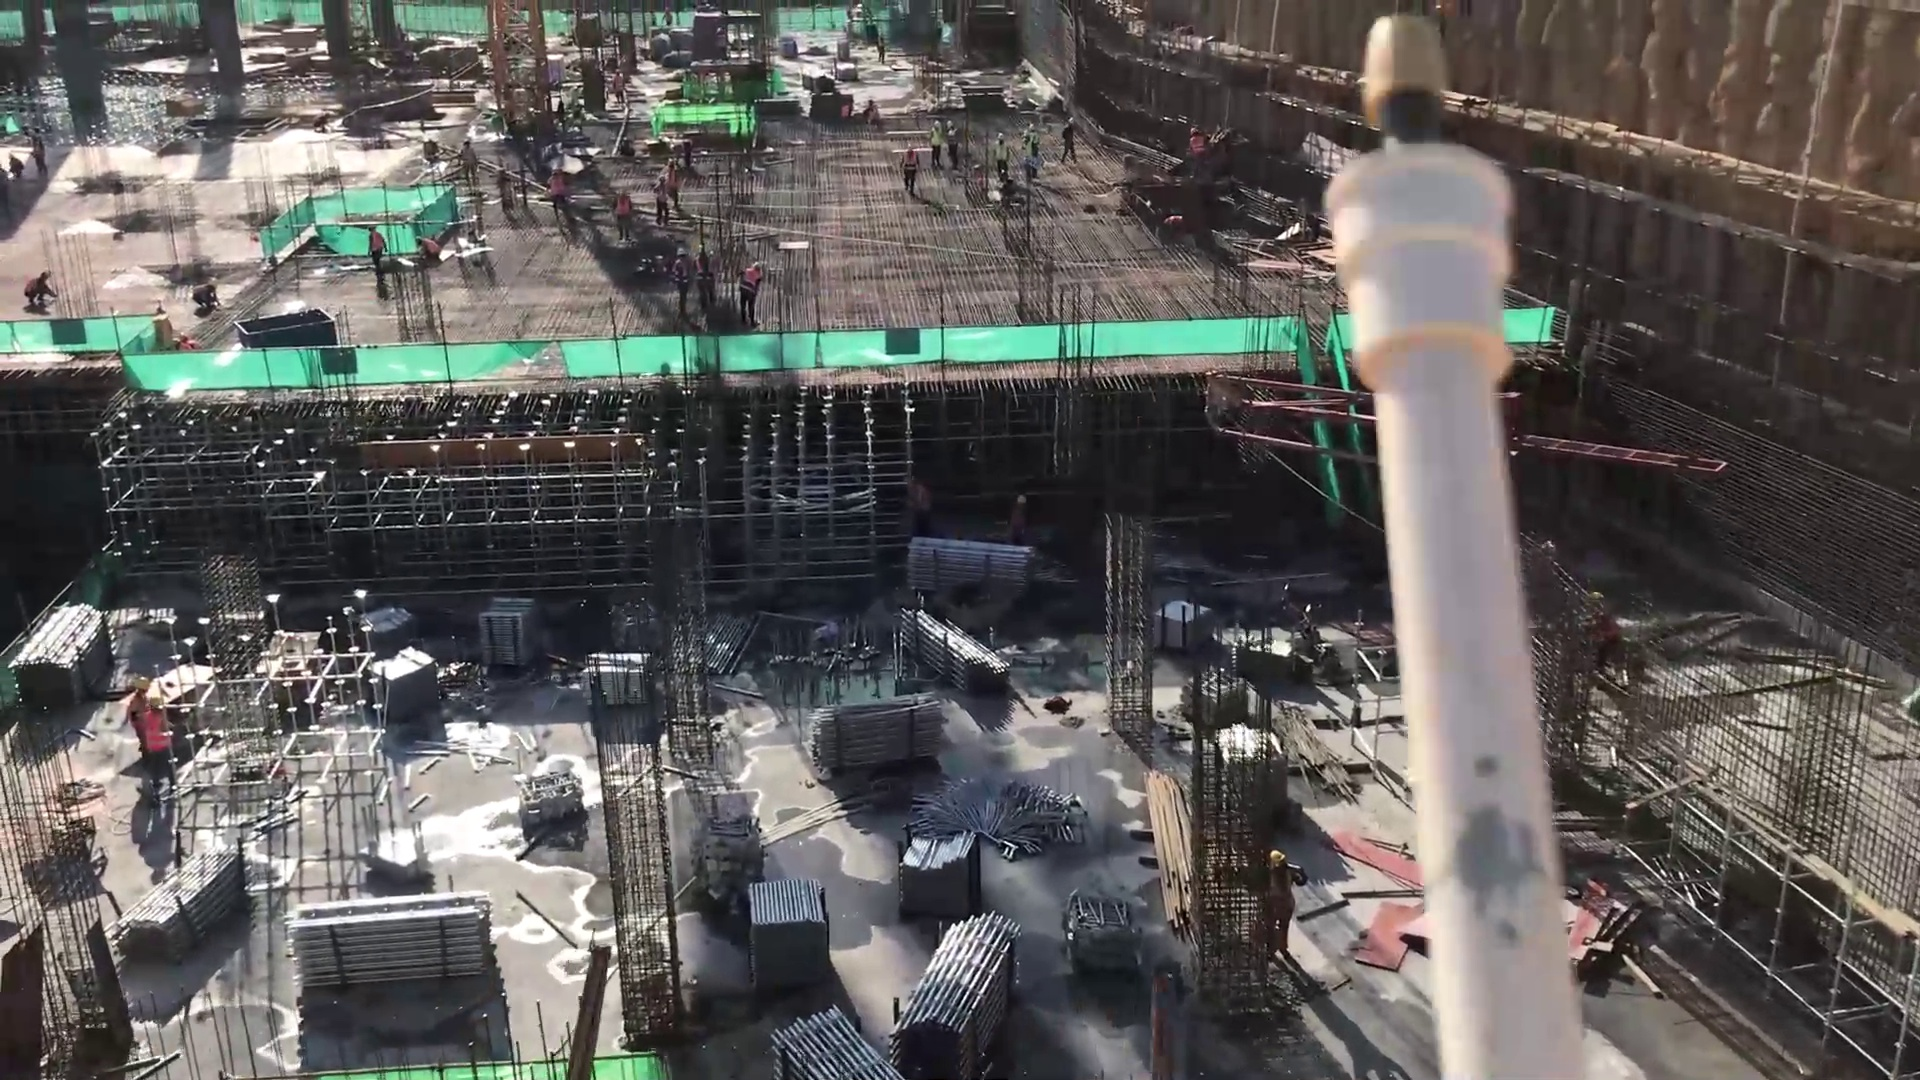person: (1246, 853, 1313, 965), (142, 703, 177, 801), (121, 673, 152, 766), (360, 223, 391, 283), (696, 241, 720, 318), (737, 258, 764, 327), (23, 266, 58, 307), (187, 272, 223, 313), (543, 168, 569, 226), (613, 187, 636, 246), (457, 140, 484, 189), (672, 244, 690, 318), (647, 173, 668, 231), (897, 143, 917, 195), (1020, 134, 1040, 183), (663, 161, 681, 214), (992, 132, 1008, 188), (926, 119, 942, 174), (412, 236, 444, 261), (1060, 114, 1076, 165), (945, 121, 961, 170), (1026, 122, 1037, 174), (611, 66, 624, 103), (5, 152, 22, 180)
scaffold: (886, 919, 1016, 1074), (298, 899, 493, 984), (119, 846, 252, 958), (819, 697, 944, 772), (906, 607, 1011, 693), (9, 601, 96, 707), (775, 997, 878, 1080), (908, 538, 1033, 603), (751, 881, 825, 985), (905, 835, 979, 912), (374, 652, 436, 732), (475, 596, 537, 671)
wood: (1139, 777, 1204, 930)
